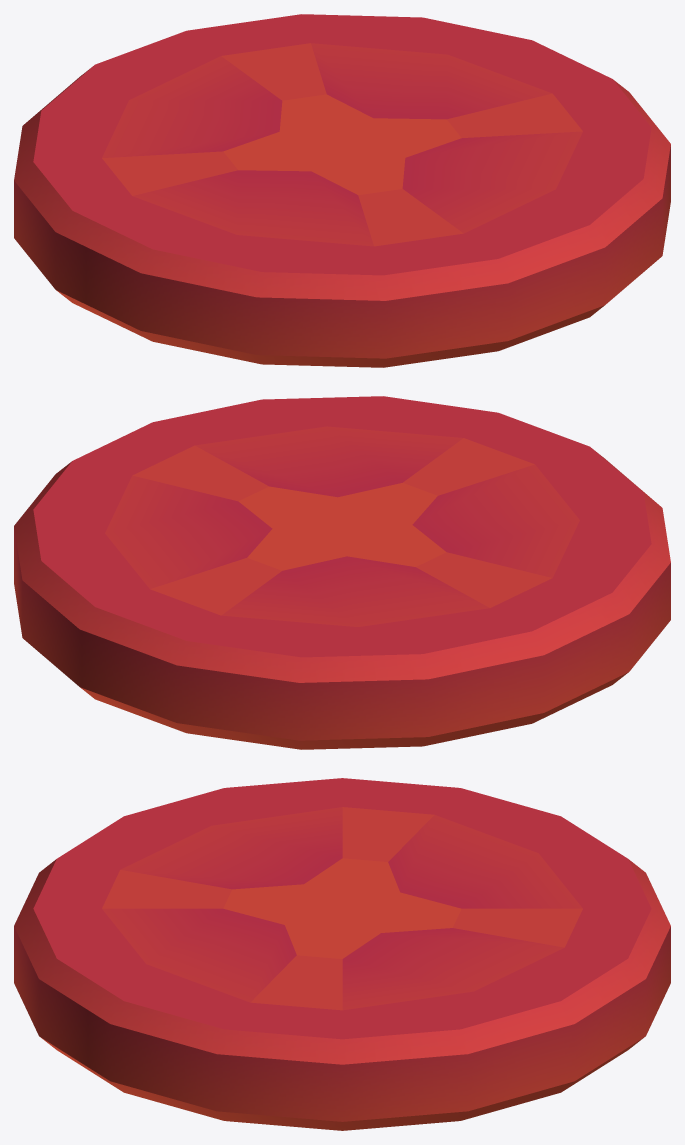
The model's file is food_ingredient_tomato_slice_flat.gltf.
3 renders of one model, top to bottom at view 1: azimuth 30°, elevation 25°; view 2: azimuth 150°, elevation 25°; view 3: azimuth 270°, elevation 25°, orthographic.
Visible parts, largest first — view 1: food_ingredient_tomato_slices; view 2: food_ingredient_tomato_slices; view 3: food_ingredient_tomato_slices.
Boxes of the visible parts, x1,y1,x2,y2 form: food_ingredient_tomato_slices: [14, 14, 670, 367]; food_ingredient_tomato_slices: [14, 396, 670, 749]; food_ingredient_tomato_slices: [14, 778, 670, 1130].
Size of the model in its own units: 0.65 by 0.1 by 0.65.
1 material, 1 textured.
